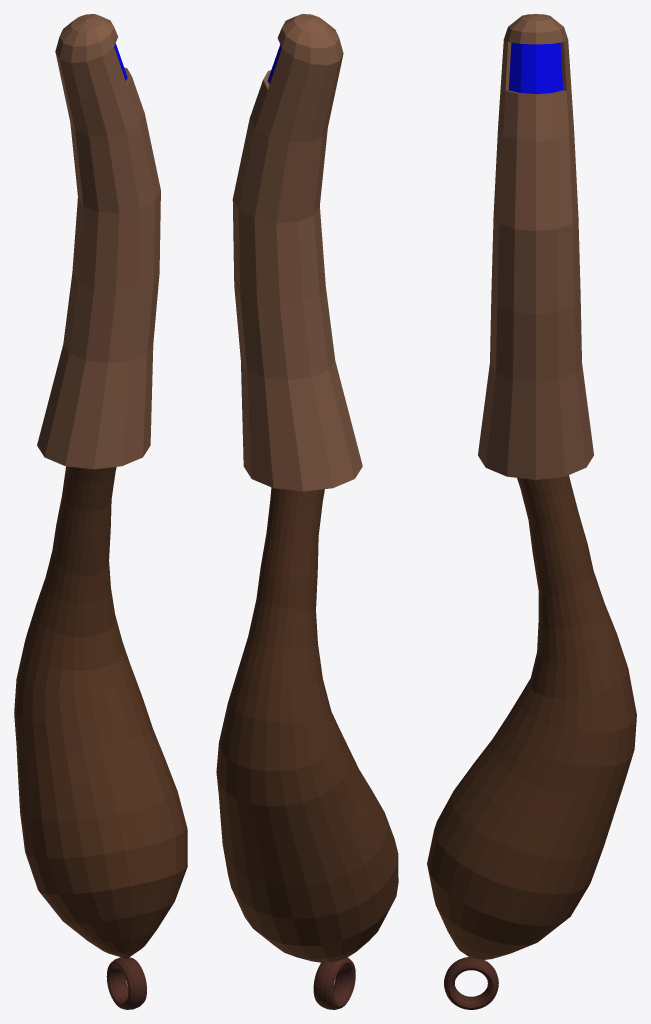
File: Wand 741.glb
3 views of the same model, side by side, from view 1: azimuth 30°, elevation 25°; view 2: azimuth 150°, elevation 25°; view 3: azimuth 270°, elevation 25° (orthographic). The views are drawn at different scales.
Visible parts, largest first — view 1: GeneratedWand; view 2: GeneratedWand; view 3: GeneratedWand.
Part boxes in pixels (bbox=[...]): GeneratedWand: bbox=[14, 14, 187, 1009]; GeneratedWand: bbox=[216, 14, 398, 1009]; GeneratedWand: bbox=[427, 14, 636, 1009].
Size of the model in its own units: 0.0828 by 0.5368 by 0.1032.
